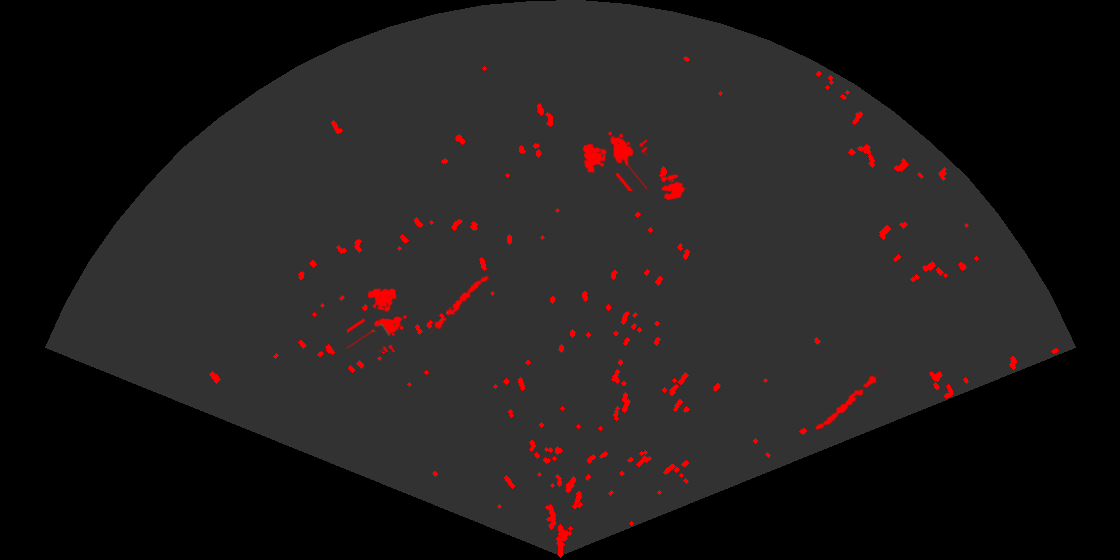ball: (659, 173, 686, 202)
cage: (347, 286, 409, 352), (581, 130, 647, 191)
chain: (814, 369, 886, 431), (427, 274, 491, 334)
